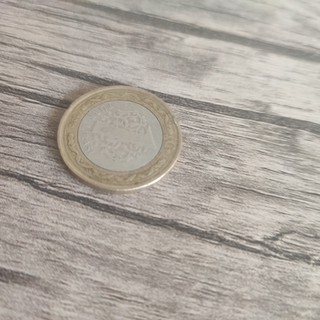1TL: (54, 82, 182, 194)
